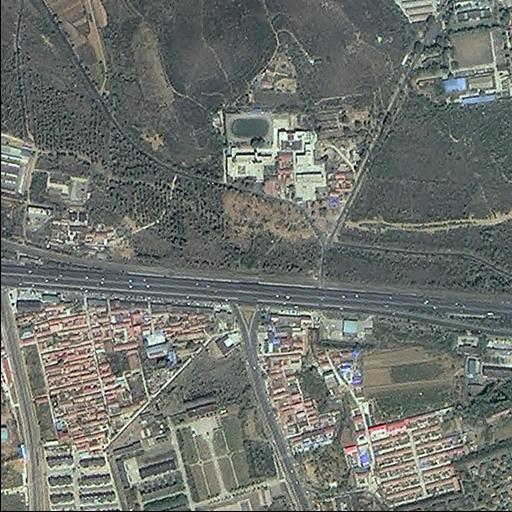school: (223, 110, 283, 185)
